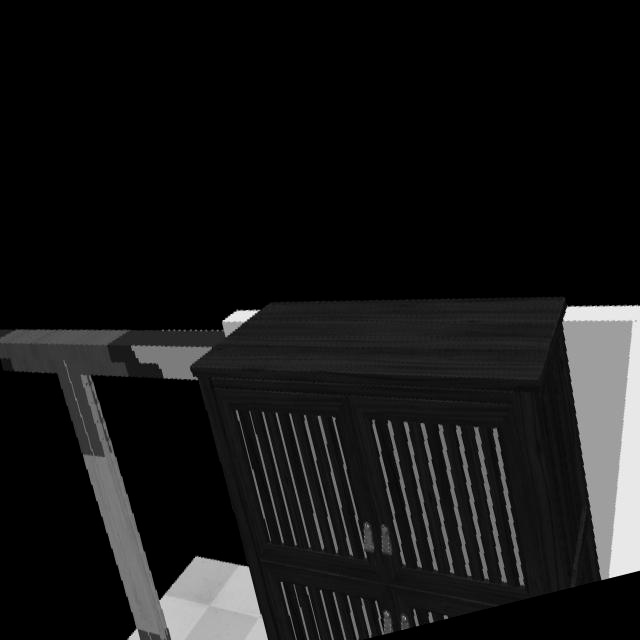wardrobe: (190, 296, 603, 640)
